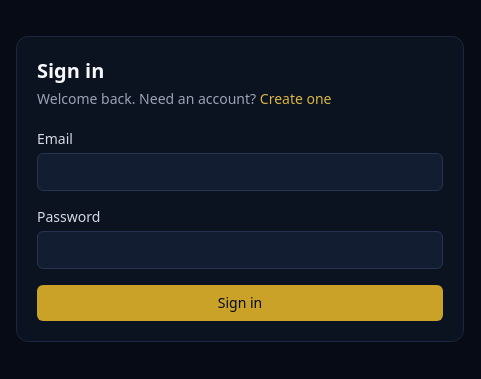
Test: LoginPage › shows zod validation messages before calling the API
The width and height of the screenshot is (481, 379).
Click the button "Sign in" at x=240, y=303, box left=37, top=285, right=443, bottom=321
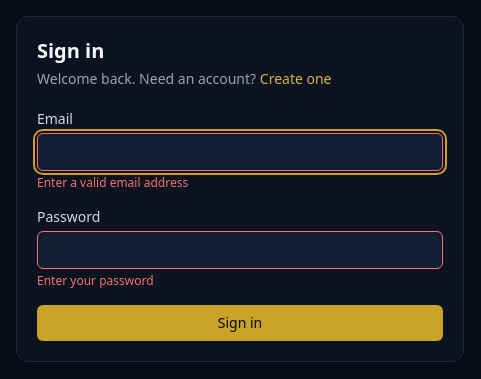
Result: the text "Enter a valid email address" is shown at left=37, top=174, right=188, bottom=191
